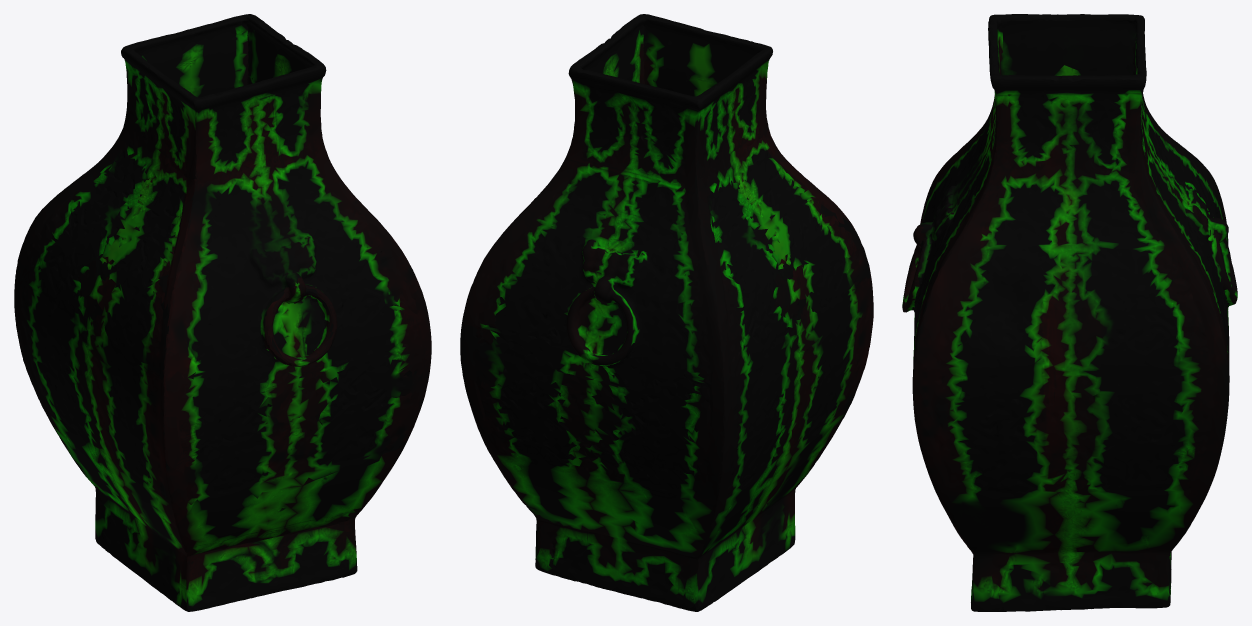
3 renders of one model, left to right at view 1: azimuth 30°, elevation 25°; view 2: azimuth 150°, elevation 25°; view 3: azimuth 270°, elevation 25°, orthographic. The views are drawn at different scales.
Visible parts, largest first — view 1: fanghu; view 2: fanghu; view 3: fanghu.
Part boxes in pixels (<box>): fanghu: <box>14,14,431,611</box>; fanghu: <box>460,14,873,611</box>; fanghu: <box>902,14,1237,611</box>.
Bounding box in the file's own units: 0.2005 × 0.361 × 0.2092.
1 material, 1 textured.
